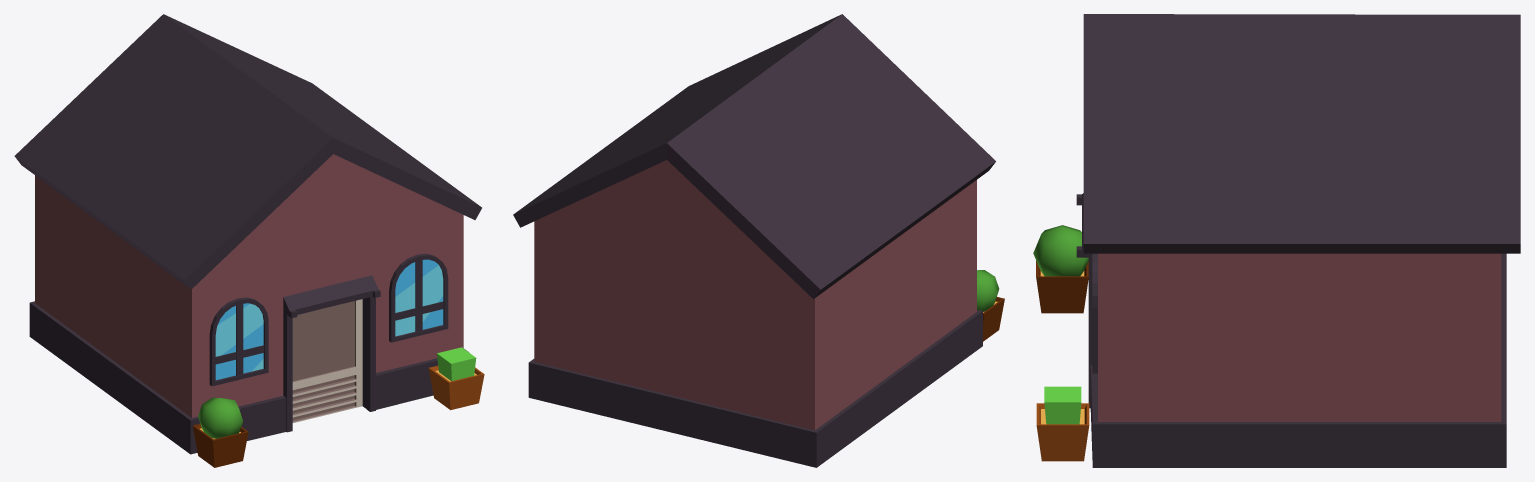
The model's file is house_boring.glb.
The picture shows the model from 3 angles, left to right: view 1: azimuth 30°, elevation 25°; view 2: azimuth 150°, elevation 25°; view 3: azimuth 270°, elevation 25°; orthographic projection. The views are drawn at different scales.
Visible parts, largest first — view 1: Prop_ResidentBuilding_01, Prop_Plant_03.001, Prop_Plant_02; view 2: Prop_ResidentBuilding_01, Prop_Plant_03.001; view 3: Prop_ResidentBuilding_01, Prop_Plant_03.001, Prop_Plant_02.
Boxes of the visible parts, bbox=[...] form: Prop_ResidentBuilding_01: bbox=[14, 14, 481, 454]; Prop_Plant_03.001: bbox=[192, 397, 248, 467]; Prop_Plant_02: bbox=[428, 347, 484, 410]; Prop_ResidentBuilding_01: bbox=[513, 14, 995, 467]; Prop_Plant_03.001: bbox=[977, 270, 1004, 341]; Prop_ResidentBuilding_01: bbox=[1076, 14, 1520, 467]; Prop_Plant_03.001: bbox=[1033, 225, 1088, 313]; Prop_Plant_02: bbox=[1036, 386, 1089, 461].
Size of the model in its own units: 5.7 by 5.22 by 6.29.
1 material, 1 textured.
